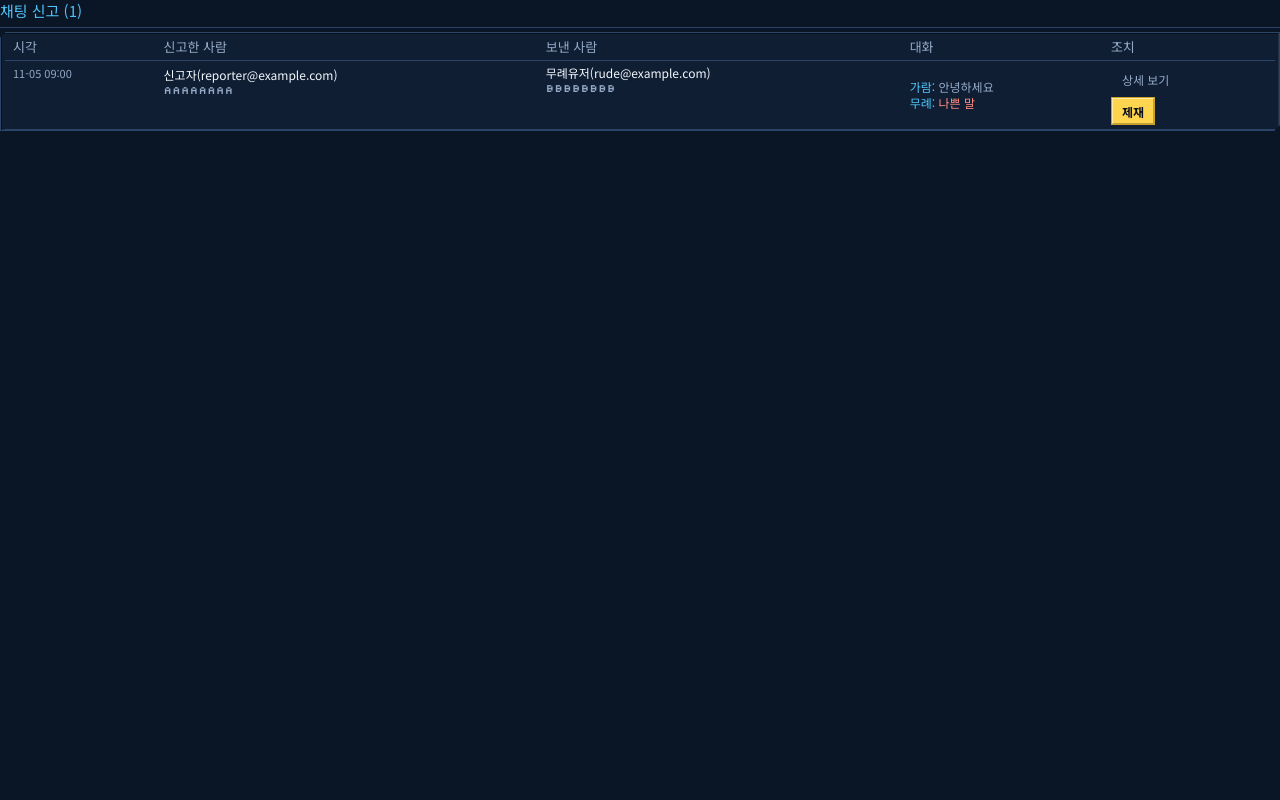
it: ChatReportsSection › 신고 행에서 대상 유저 상세를 바로 열고 원클릭 제재/해제를 실행한다
Click the button "제재".
click(1133, 111)  # box [1111,97,1155,125]
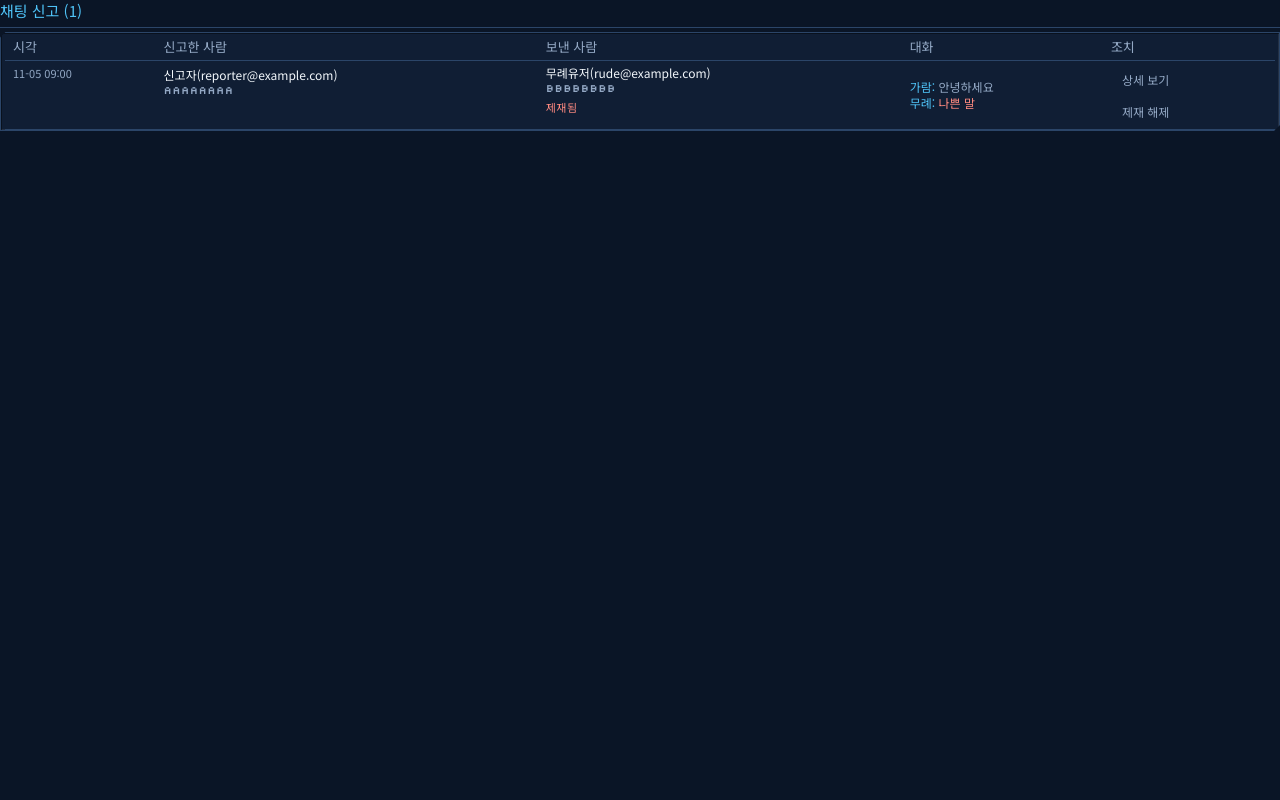
Expected: the button "제재 해제" is shown, [1111,97,1180,125]
Click the button "상세 보기".
click(1146, 79)  # box [1111,65,1180,93]
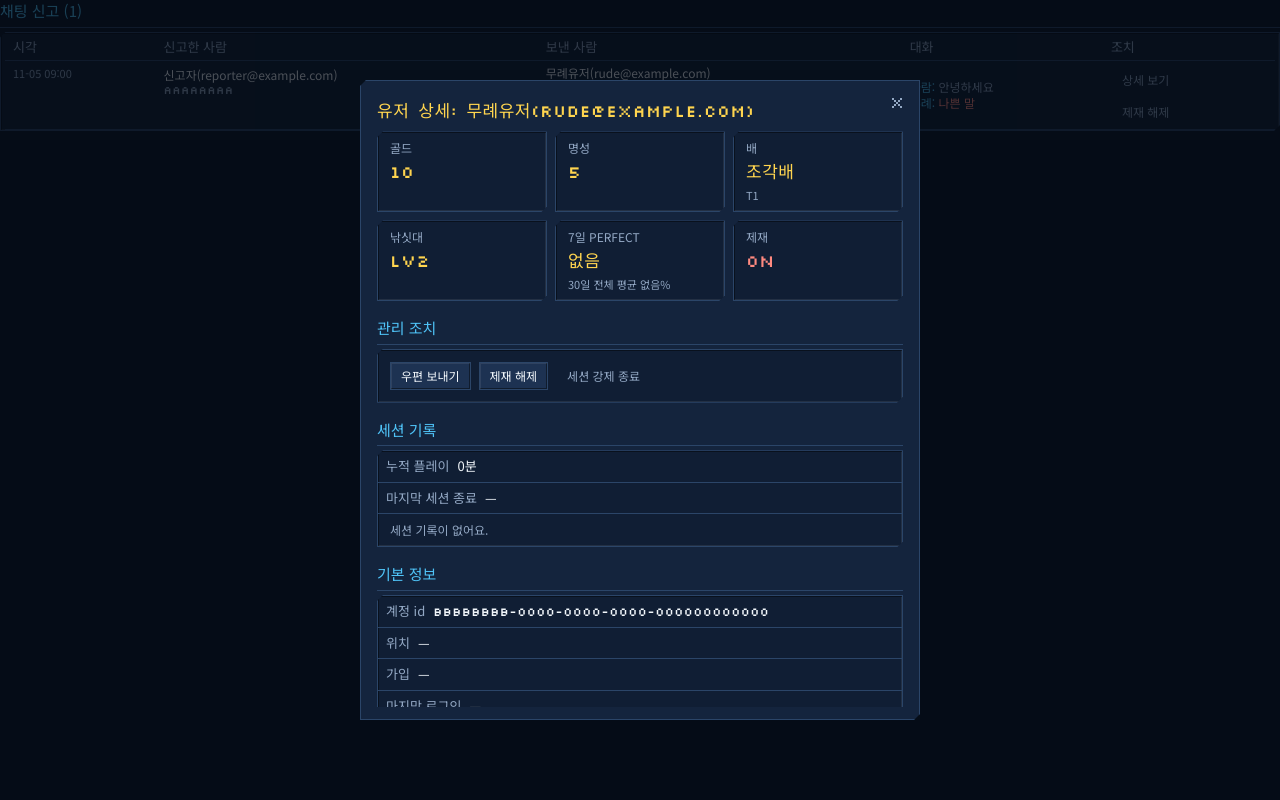
Expected: the dialog "유저 상세: 무례유저(rude@example.com)" is shown, [360,80,920,720]
